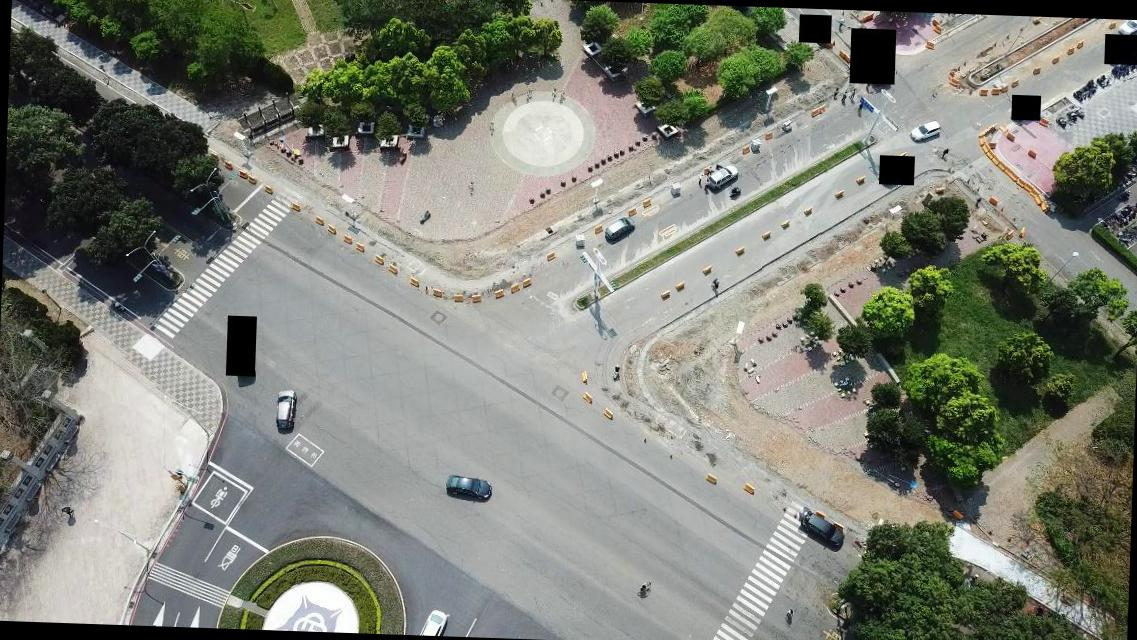vehicle: (797, 513, 844, 547), (444, 474, 492, 501), (416, 608, 453, 635), (273, 388, 296, 428), (704, 163, 738, 190), (604, 214, 635, 240), (908, 120, 940, 142), (1117, 20, 1136, 38)
